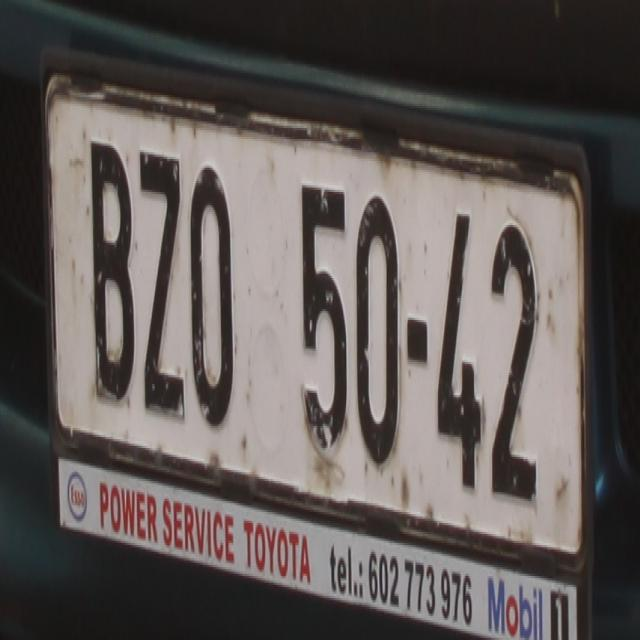0: (354, 190, 402, 479), (187, 161, 235, 439)
2: (487, 214, 541, 519)
4: (432, 201, 483, 496)
5: (293, 172, 350, 461)
B: (86, 124, 139, 412)
Z: (136, 139, 186, 430)
